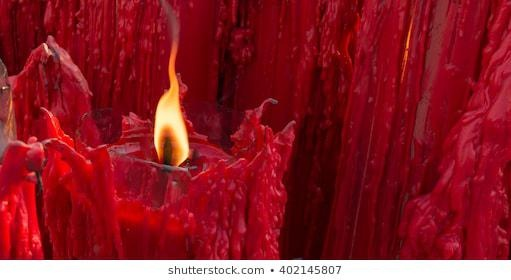fire: (153, 53, 193, 164)
